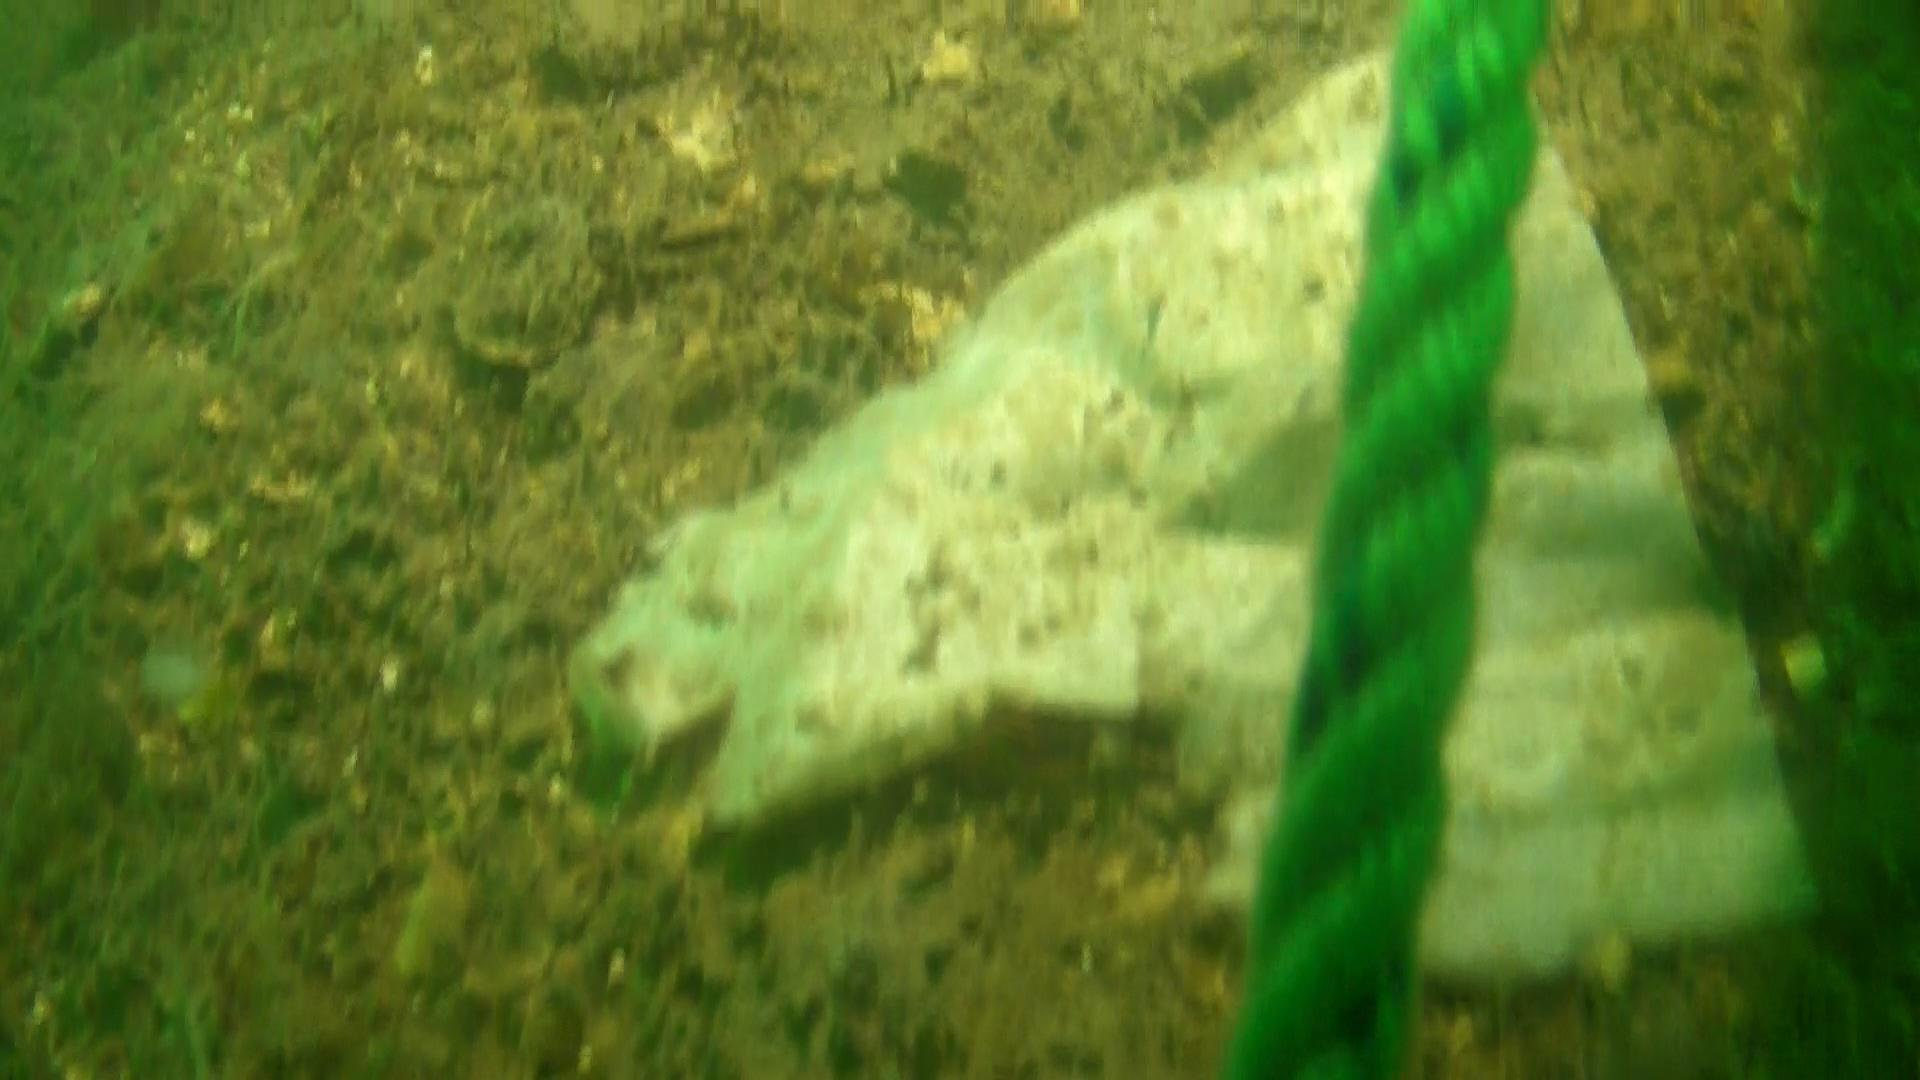rope: (1221, 0, 1547, 1080)
